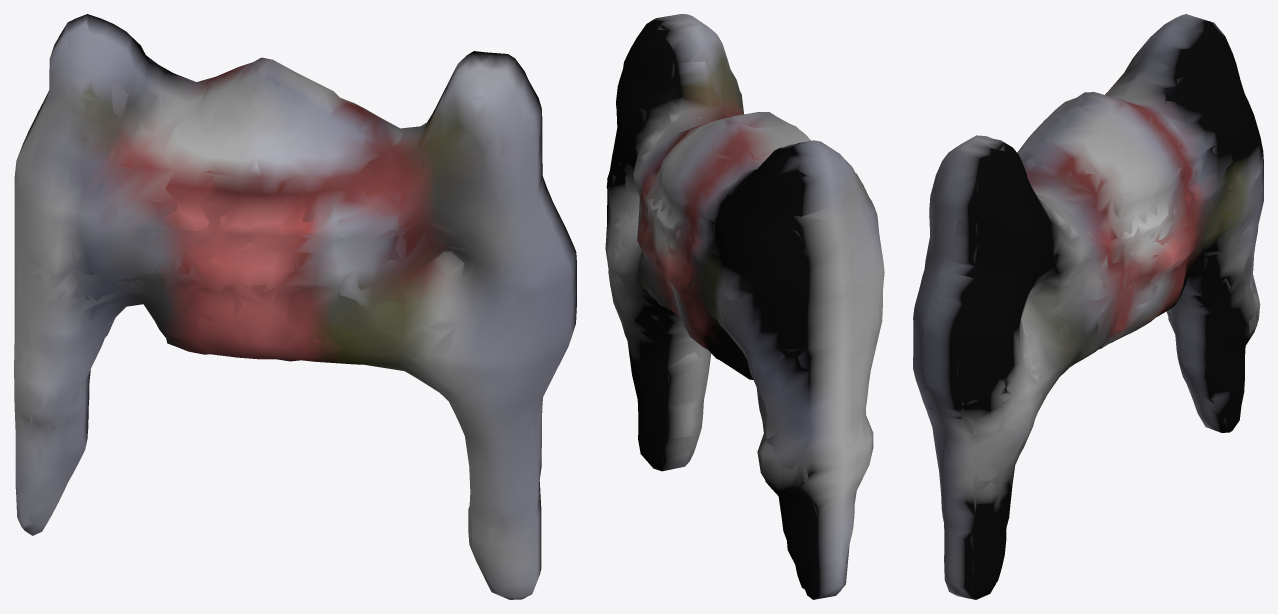
The model's file is terror_drone.glb.
3 views of the same model, side by side, from view 1: azimuth 30°, elevation 25°; view 2: azimuth 150°, elevation 25°; view 3: azimuth 270°, elevation 25° (orthographic). The views are drawn at different scales.
Visible parts, largest first — view 1: terror_drone; view 2: terror_drone; view 3: terror_drone.
Part boxes in pixels (x1=…): terror_drone: x1=14, y1=14, x2=576, y2=599; terror_drone: x1=605, y1=14, x2=884, y2=599; terror_drone: x1=913, y1=14, x2=1263, y2=599.
Bounding box in the file's own units: 1.72 × 2.15 × 1.49.
